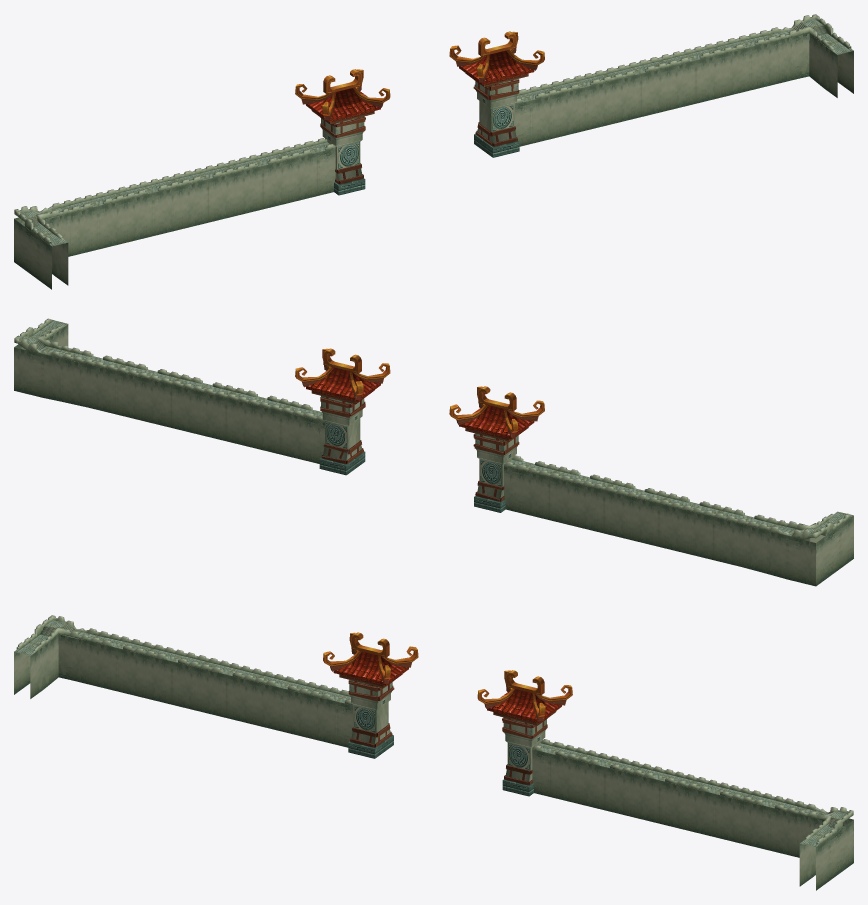
The model's file is weiqiang.FBX.
3 views of the same model, one above another, from view 1: azimuth 30°, elevation 25°; view 2: azimuth 150°, elevation 25°; view 3: azimuth 330°, elevation 25° (orthographic).
Parts seen in each view (by area): view 1: Box049; view 2: Box049; view 3: Box049.
Boxes of the visible parts, x1,y1,x2,y2 form: Box049: (14, 14, 853, 289); Box049: (14, 318, 853, 586); Box049: (14, 615, 853, 890).
Size of the model in its own units: 3742 by 505 by 393.
